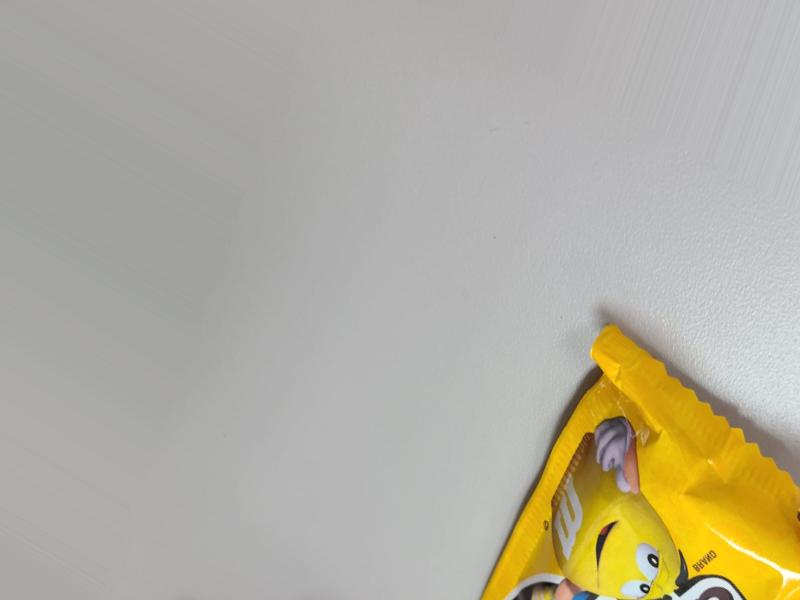m&m: (439, 343, 762, 600)
